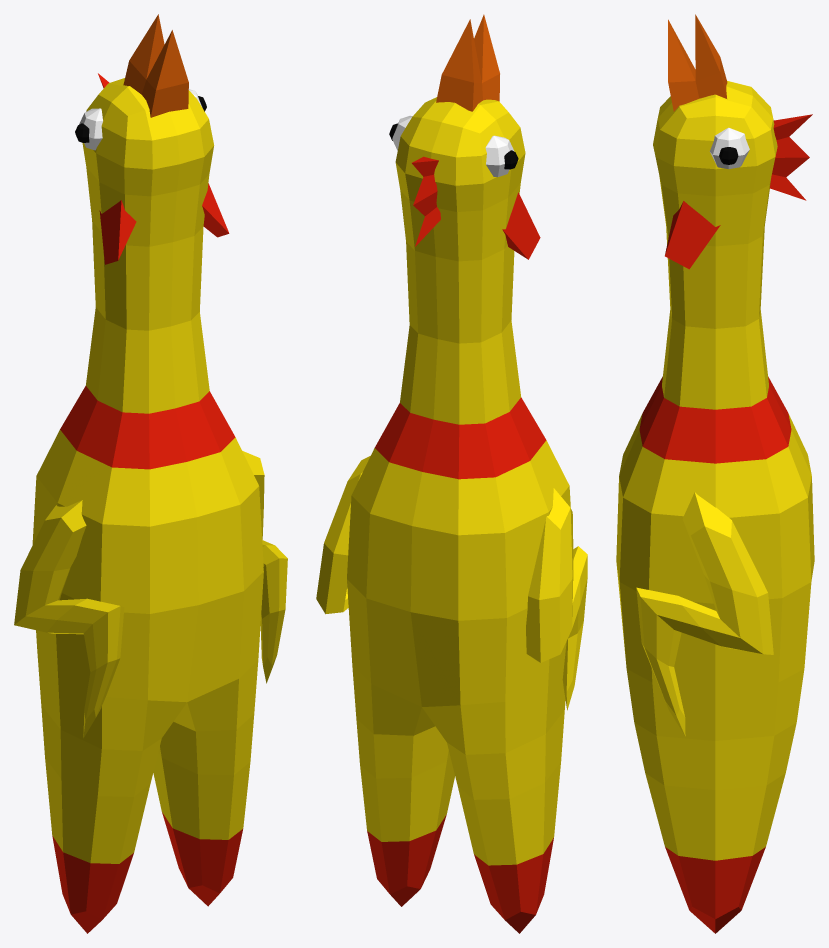
Rendered from Chicken_v2.fbx.
3 renders of one model, left to right at view 1: azimuth 30°, elevation 25°; view 2: azimuth 150°, elevation 25°; view 3: azimuth 270°, elevation 25°, orthographic. The views are drawn at different scales.
Visible parts, largest first — view 1: Cube; view 2: Cube; view 3: Cube.
Boxes of the visible parts, bbox=[...] form: Cube: bbox=[14, 14, 287, 933]; Cube: bbox=[316, 14, 587, 933]; Cube: bbox=[616, 14, 814, 933].
Size of the model in its own units: 147 by 529 by 107.
